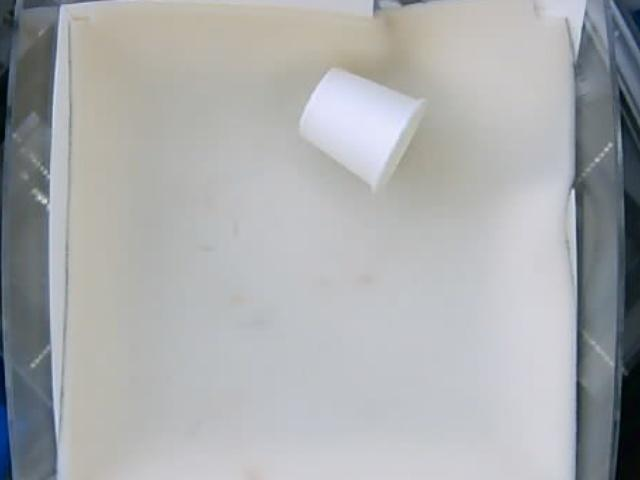Cup: (295, 66, 424, 193)
